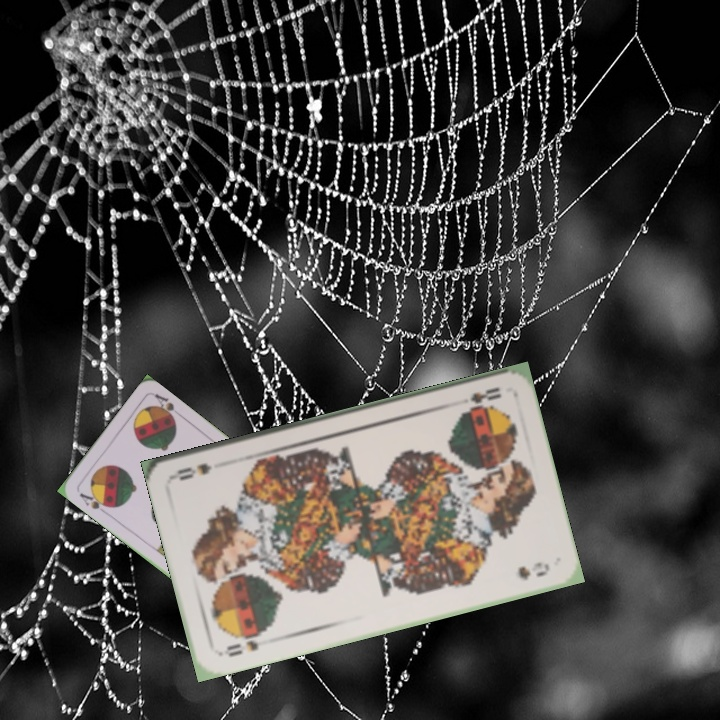SA: (75, 488, 113, 517)
SO: (465, 383, 505, 411), (223, 636, 261, 659)
